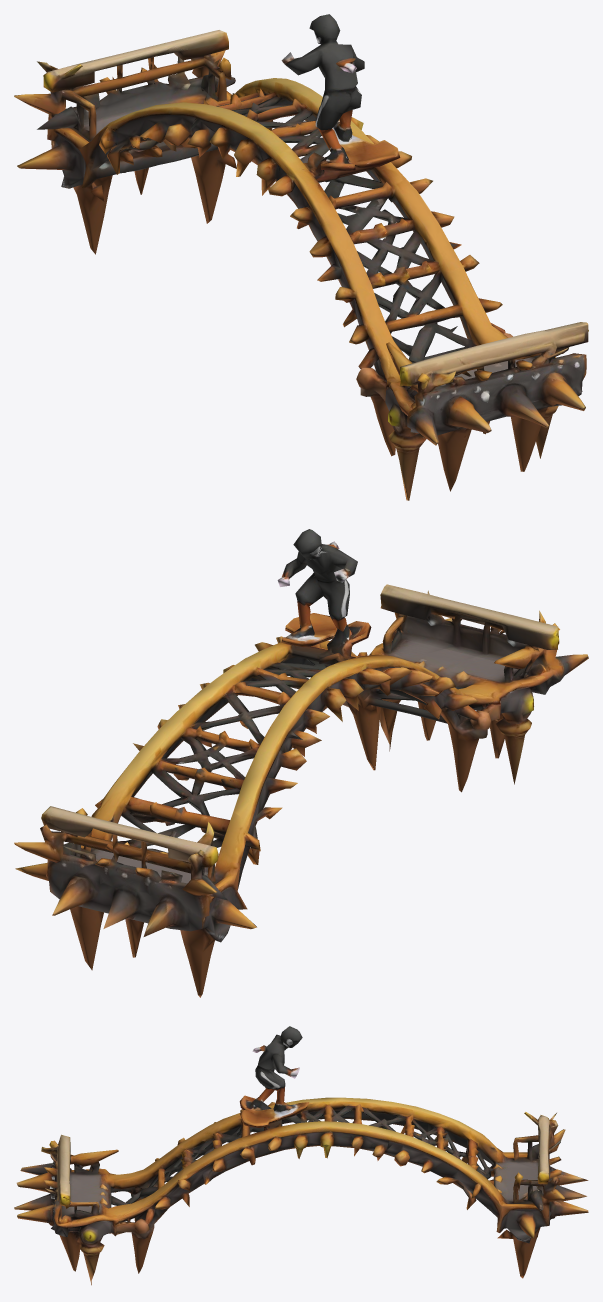
The model's file is 滑铲_尖刺障碍3d模型.glb.
3 renders of one model, top to bottom at view 1: azimuth 30°, elevation 25°; view 2: azimuth 150°, elevation 25°; view 3: azimuth 270°, elevation 25°, orthographic. The views are drawn at different scales.
Visible parts, largest first — view 1: tripo_node_cd768bd4-ed66-4489-a7b3-c7211e114b49; view 2: tripo_node_cd768bd4-ed66-4489-a7b3-c7211e114b49; view 3: tripo_node_cd768bd4-ed66-4489-a7b3-c7211e114b49.
Part boxes in pixels (x1,y1,x2,y2): tripo_node_cd768bd4-ed66-4489-a7b3-c7211e114b49: (14, 14, 588, 500); tripo_node_cd768bd4-ed66-4489-a7b3-c7211e114b49: (14, 529, 588, 997); tripo_node_cd768bd4-ed66-4489-a7b3-c7211e114b49: (14, 1026, 588, 1285).
Size of the model in its own units: 0.3417 by 0.4622 by 1.
Materials: 1 (1 with a texture image).
